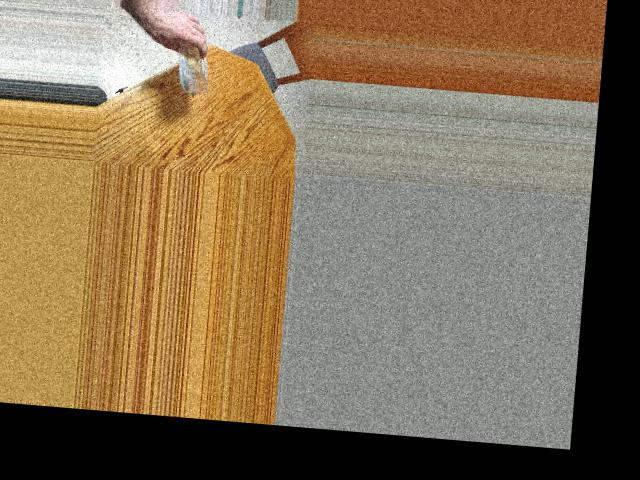cheese: (150, 24, 224, 96)
